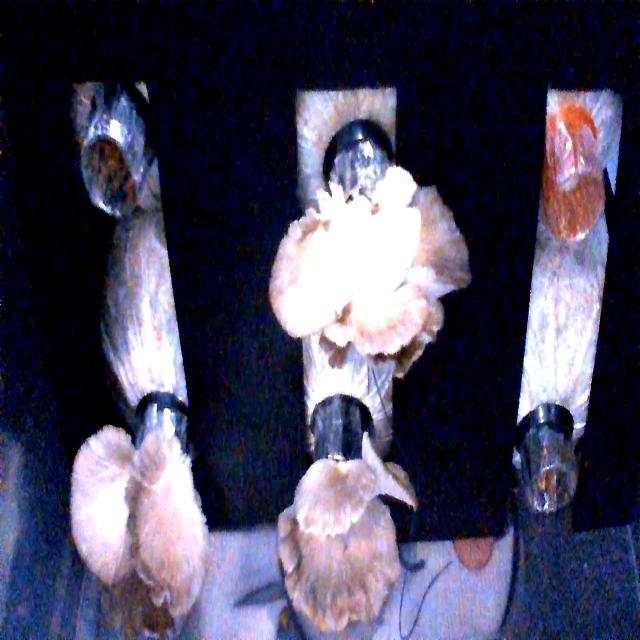big: (274, 204, 450, 355), (275, 450, 412, 622), (76, 430, 208, 604)
nfound: (76, 129, 144, 220), (541, 160, 609, 244), (520, 462, 586, 525)
